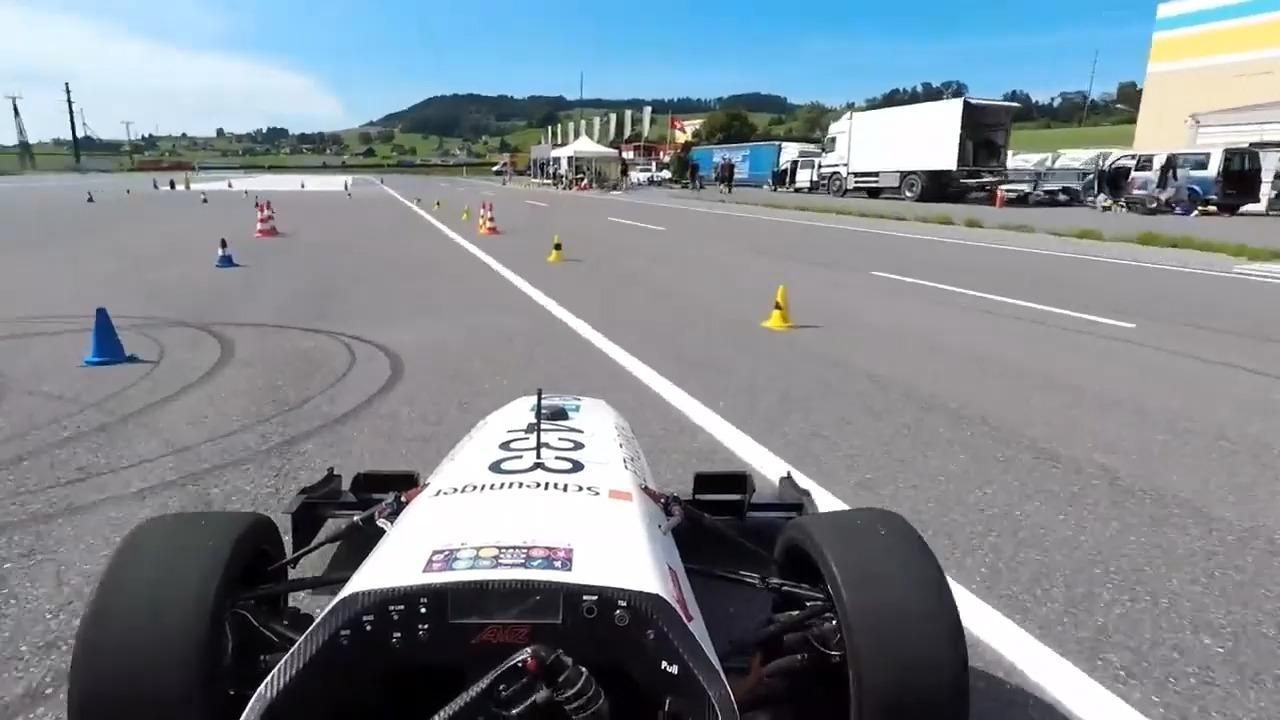blue_cone: (80, 307, 136, 368), (214, 236, 240, 268)
large_orange_cone: (254, 203, 274, 238), (260, 201, 279, 237), (484, 202, 500, 235)
yellow_cone: (760, 282, 799, 330), (547, 234, 568, 264)
